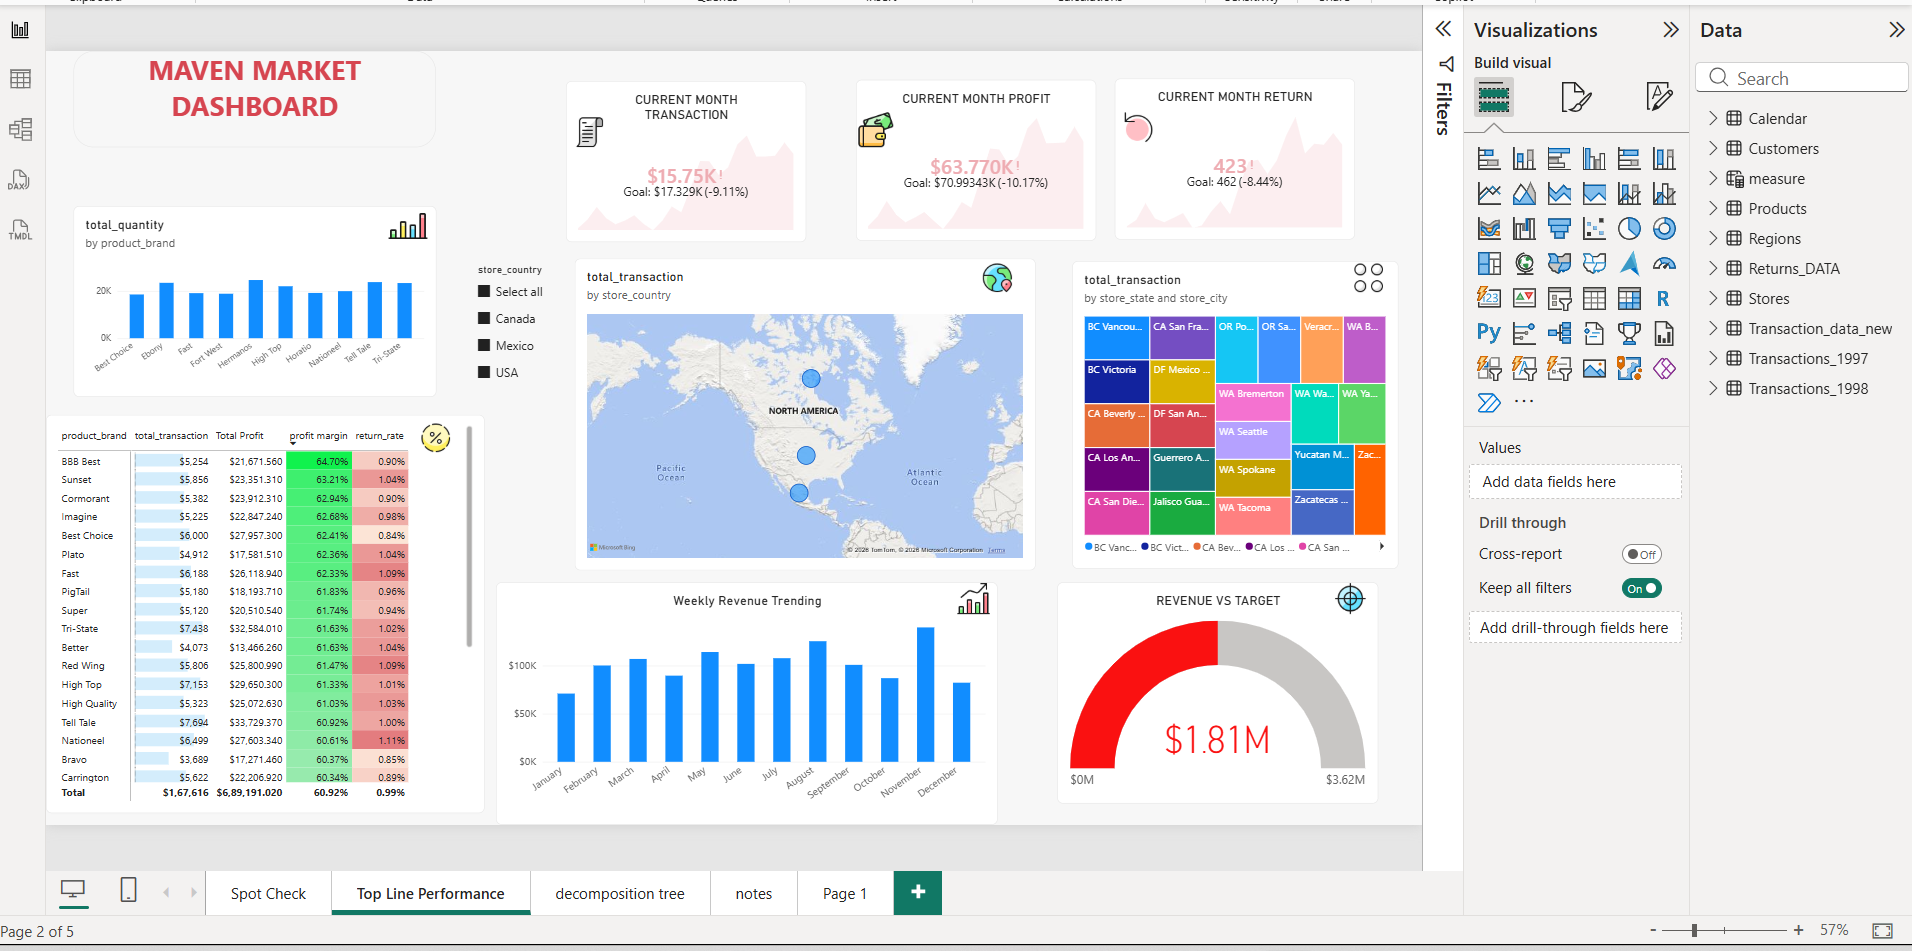

The dashboard page shown, as its layout file describes it:
{"tool":"powerbi","page":{"name":"Top Line Performance","canvas":[1920,1080],"ordinal":1},"visuals":[{"type":"pivotTable","fields":{"Rows":["Products.product_brand"],"Values":["measure.total_transaction","measure.Total Profit","measure.profit margin","measure.return_rate"]},"box":[0,507.6,612.2,556.4],"z":0},{"type":"kpi","title":"CURRENT MONTH TRANSACTION","fields":{"Indicator":["measure.total_transaction"],"TrendLine":["Calendar.Start of Month"],"Goal":["measure.Last Month Transactions"]},"box":[725.6,41.9,335,225],"z":1000},{"type":"kpi","title":"CURRENT MONTH RETURN","fields":{"Indicator":["measure.total_return"],"TrendLine":["Calendar.Start of Month"],"Goal":["measure.Last Month Return"]},"box":[1491.3,38.4,335,225],"z":2000},{"type":"kpi","title":"CURRENT MONTH PROFIT","fields":{"Indicator":["measure.Total Profit"],"TrendLine":["Calendar.Start of Month"],"Goal":["measure.Last Month Profith"]},"box":[1130.2,40.1,335,225],"z":3000},{"type":"map","fields":{"Size":["measure.total_transaction"],"Category":["Stores.store_country"]},"box":[737.8,289.5,643.3,435],"z":4000},{"type":"slicer","fields":{"Values":["Stores.store_country"]},"box":[594.8,296.5,131.7,193.3],"z":5000},{"type":"treemap","fields":{"Group":["Stores.store_state","Stores.store_city","Stores.store_country"],"Values":["measure.total_transaction"]},"box":[1432,293,455,429.9],"z":6000},{"type":"columnChart","title":"Weekly Revenue Trending","fields":{"Y":["measure.Total Revenue"],"Category":["Calendar.Start of Week.Variation.Date Hierarchy.Year","Calendar.Start of Week.Variation.Date Hierarchy.Month"]},"box":[628.3,741.7,700,338.3],"z":7000},{"type":"gauge","title":"REVENUE VS TARGET","fields":{"Y":["measure.Total Revenue"],"TargetValue":["measure.Revenue Target"]},"box":[1411.1,741.3,448.3,308.7],"z":8000},{"type":"columnChart","fields":{"Category":["Products.product_brand"],"Y":["measure.total_quantity"]},"box":[38.4,216.3,506.7,266.7],"z":9000},{"type":"textbox","box":[38.4,0,505.8,134.3],"z":10000},{"type":"image","box":[725.6,92.4,66.3,41.9],"z":11000},{"type":"image","box":[1130.2,85.5,55.8,48.8],"z":12000},{"type":"image","box":[1491.3,85.5,66.3,41.9],"z":13000},{"type":"image","box":[477.9,216.3,54.1,55.8],"z":14000},{"type":"image","box":[1294.2,294.8,66.3,41.9],"z":15000},{"type":"image","box":[1819.2,296.5,52.3,40.1],"z":16000},{"type":"image","box":[1261.1,741.3,66.3,45.3],"z":17000},{"type":"image","box":[1780.8,741.3,78.5,45.3],"z":18000},{"type":"image","box":[511,519.8,66.3,40.1],"z":19000}]}

Visuals, with their boxes on the page's 1920x1080 design canvas (x1, y1, x2, y2). These are canvas units, not pixel positions in the 1912x951 screenshot, which may show the page scaled, cropped or inside an application window:
pivotTable - Products.product_brand x measure.total_transaction: BBox(0, 508, 612, 1064)
"CURRENT MONTH TRANSACTION" kpi: BBox(726, 42, 1061, 267)
"CURRENT MONTH RETURN" kpi: BBox(1491, 38, 1826, 263)
"CURRENT MONTH PROFIT" kpi: BBox(1130, 40, 1465, 265)
map - measure.total_transaction x Stores.store_country: BBox(738, 290, 1381, 724)
slicer - Stores.store_country: BBox(595, 296, 726, 490)
treemap - Stores.store_state x Stores.store_city: BBox(1432, 293, 1887, 723)
"Weekly Revenue Trending" columnChart: BBox(628, 742, 1328, 1080)
"REVENUE VS TARGET" gauge: BBox(1411, 741, 1859, 1050)
columnChart - Products.product_brand x measure.total_quantity: BBox(38, 216, 545, 483)
textbox: BBox(38, 0, 544, 134)
image: BBox(726, 92, 792, 134)
image: BBox(1130, 86, 1186, 134)
image: BBox(1491, 86, 1558, 127)
image: BBox(478, 216, 532, 272)
image: BBox(1294, 295, 1360, 337)
image: BBox(1819, 296, 1872, 337)
image: BBox(1261, 741, 1327, 787)
image: BBox(1781, 741, 1859, 787)
image: BBox(511, 520, 577, 560)
